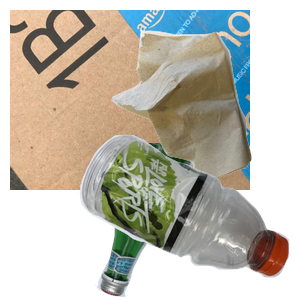cardboard: (10, 10, 250, 190)
glass: (93, 143, 284, 300)
plastic: (77, 132, 300, 300)
trash: (109, 28, 300, 208)
